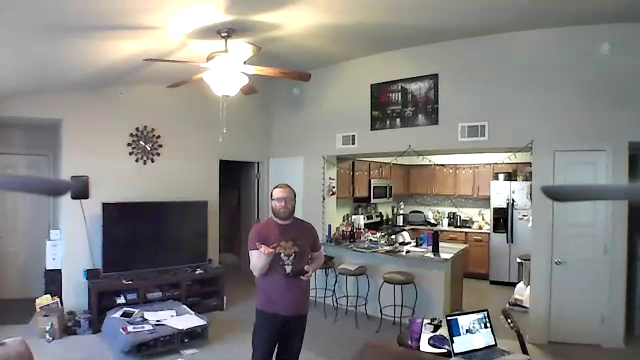land: (250, 242, 278, 256)
